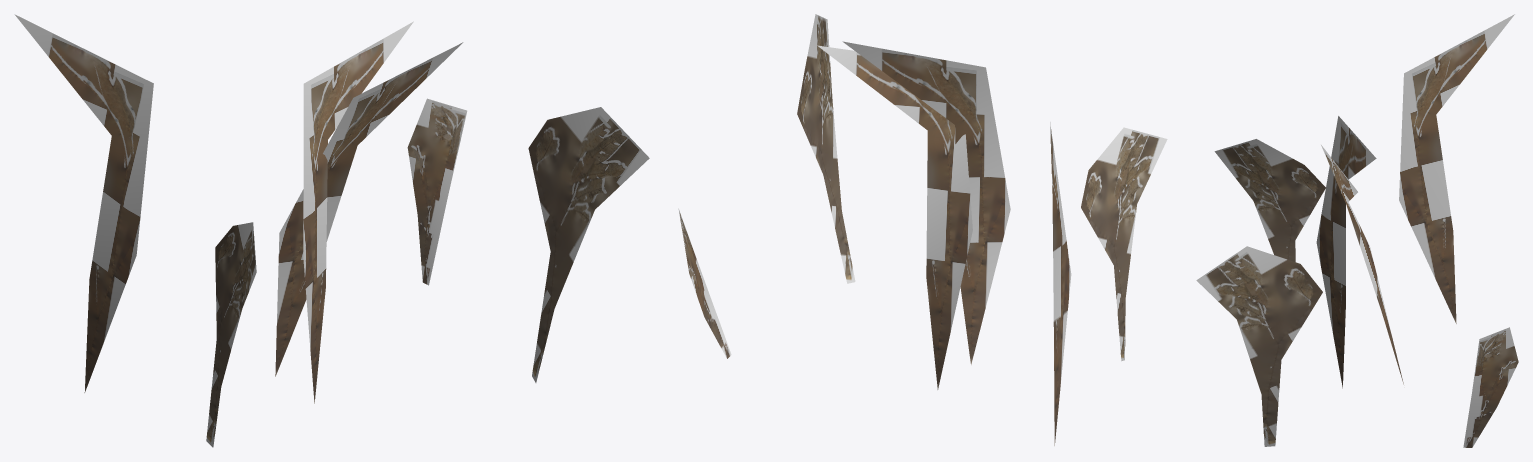
The model's file is Bush4.fbx.
3 renders of one model, left to right at view 1: azimuth 30°, elevation 25°; view 2: azimuth 150°, elevation 25°; view 3: azimuth 270°, elevation 25°, orthographic. The views are drawn at different scales.
Visible parts, largest first — view 1: LOD0; view 2: LOD0; view 3: LOD0.
Boxes of the visible parts, box(x1,y1,x2,y2) form: LOD0: box(14, 14, 649, 447); LOD0: box(678, 14, 1167, 445); LOD0: box(1196, 14, 1518, 447).
Size of what is drawn, in the model's own units: 165 by 129 by 127.
